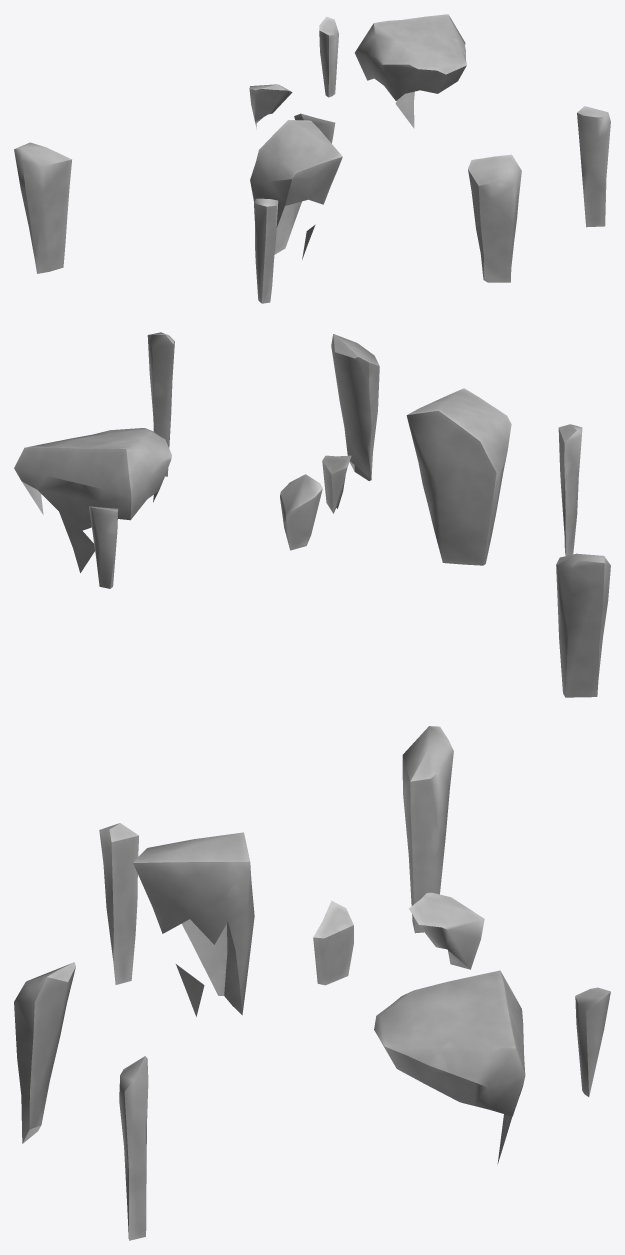
The model's file is sculpted_rubble_03.glb.
The picture shows the model from 3 angles, top to bottom: view 1: azimuth 30°, elevation 25°; view 2: azimuth 150°, elevation 25°; view 3: azimuth 270°, elevation 25°; orthographic projection. The views are drawn at different scales.
Visible parts, largest first — view 1: sculpted_rubble_03; view 2: sculpted_rubble_03; view 3: sculpted_rubble_03.
Boxes of the visible parts, box(x1,y1,x2,y2) form: sculpted_rubble_03: box(14, 14, 610, 303); sculpted_rubble_03: box(14, 332, 610, 697); sculpted_rubble_03: box(14, 726, 610, 1240).
Size of the model in its own units: 1.88 by 0.5526 by 1.37.
Materials: 1 (1 with a texture image).
